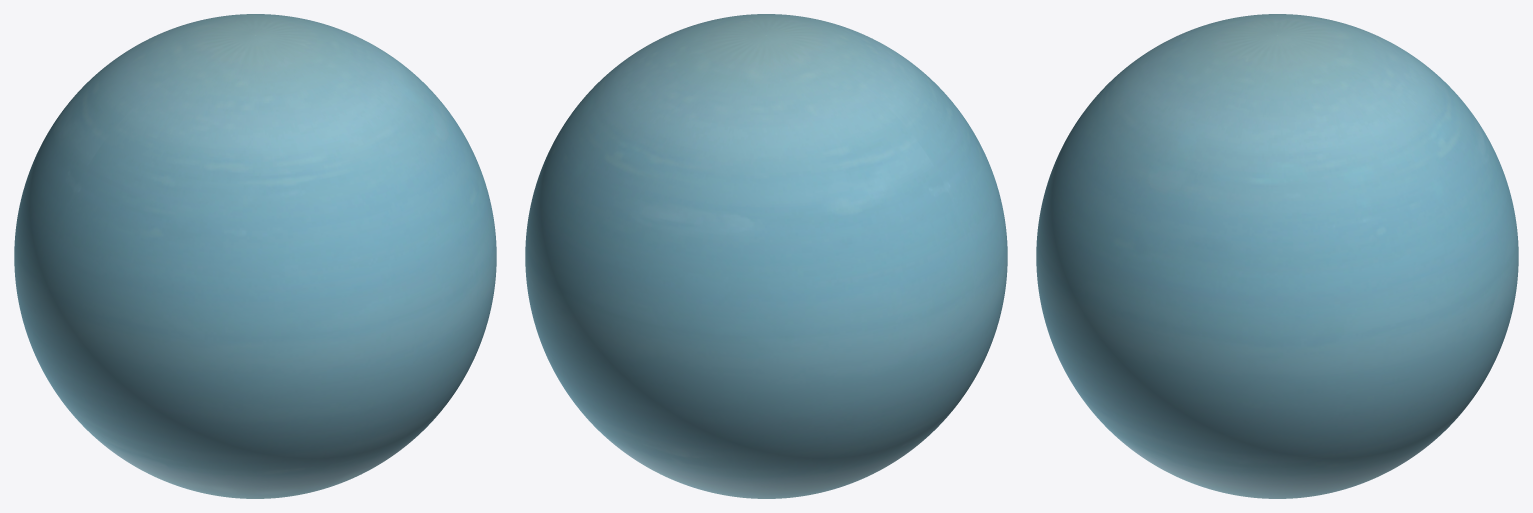
File: uranus.gltf
The picture shows the model from 3 angles, left to right: view 1: azimuth 30°, elevation 25°; view 2: azimuth 150°, elevation 25°; view 3: azimuth 270°, elevation 25°; orthographic projection.
Parts seen in each view (by area): view 1: Sphere_2; view 2: Sphere_2; view 3: Sphere_2.
Boxes of the visible parts, x1,y1,x2,y2 form: Sphere_2: (14,14,496,498); Sphere_2: (525,14,1007,498); Sphere_2: (1036,14,1518,498).
Bounding box in the file's own units: 2.23 × 2.25 × 2.23.
Materials: 1 (1 with a texture image).
